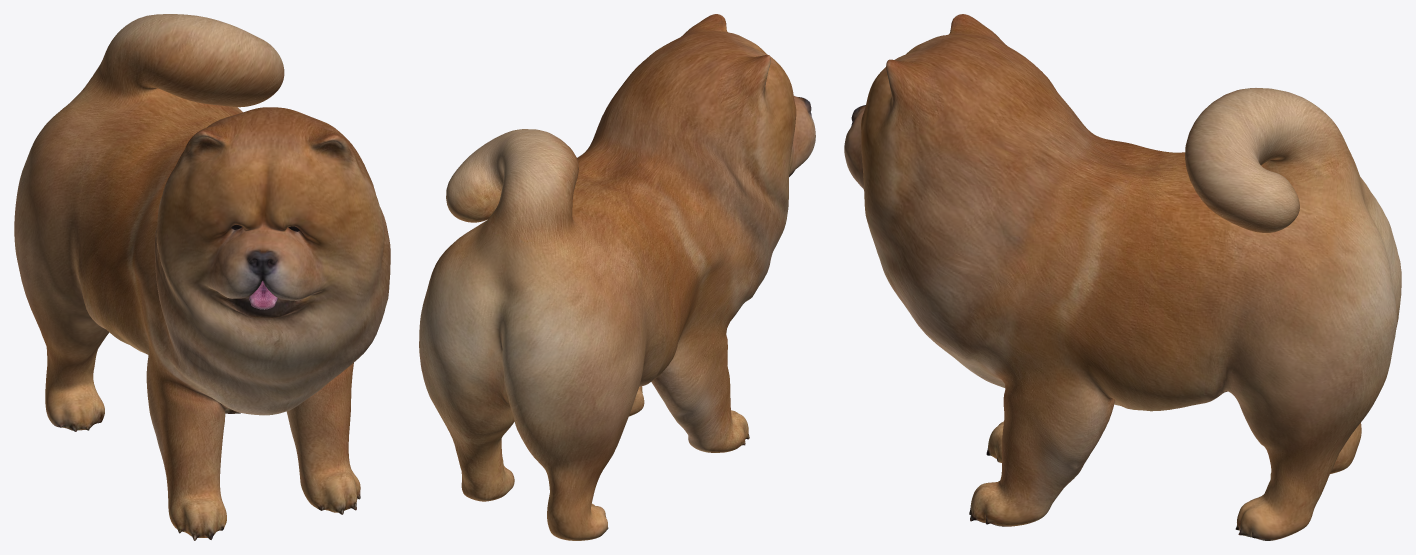
The model's file is chow.glb.
3 renders of one model, left to right at view 1: azimuth 30°, elevation 25°; view 2: azimuth 150°, elevation 25°; view 3: azimuth 270°, elevation 25°, orthographic. The views are drawn at different scales.
Parts seen in each view (by area): view 1: Chowchow.001; view 2: Chowchow.001; view 3: Chowchow.001.
Part boxes in pixels (box(x1,y1,x2,y2)): Chowchow.001: box(14, 14, 390, 540); Chowchow.001: box(419, 14, 815, 540); Chowchow.001: box(844, 14, 1401, 540).
Bounding box in the file's own units: 0.897 × 1.47 × 1.71.
1 material, 1 textured.
